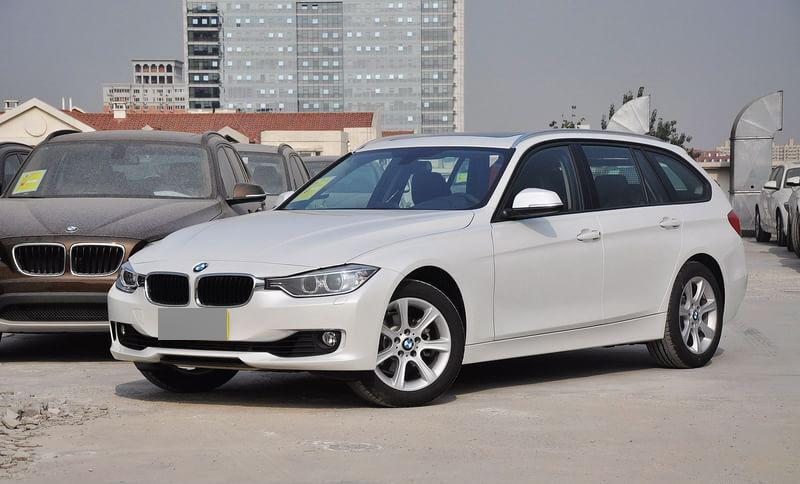Wagon: (105, 128, 750, 409)
